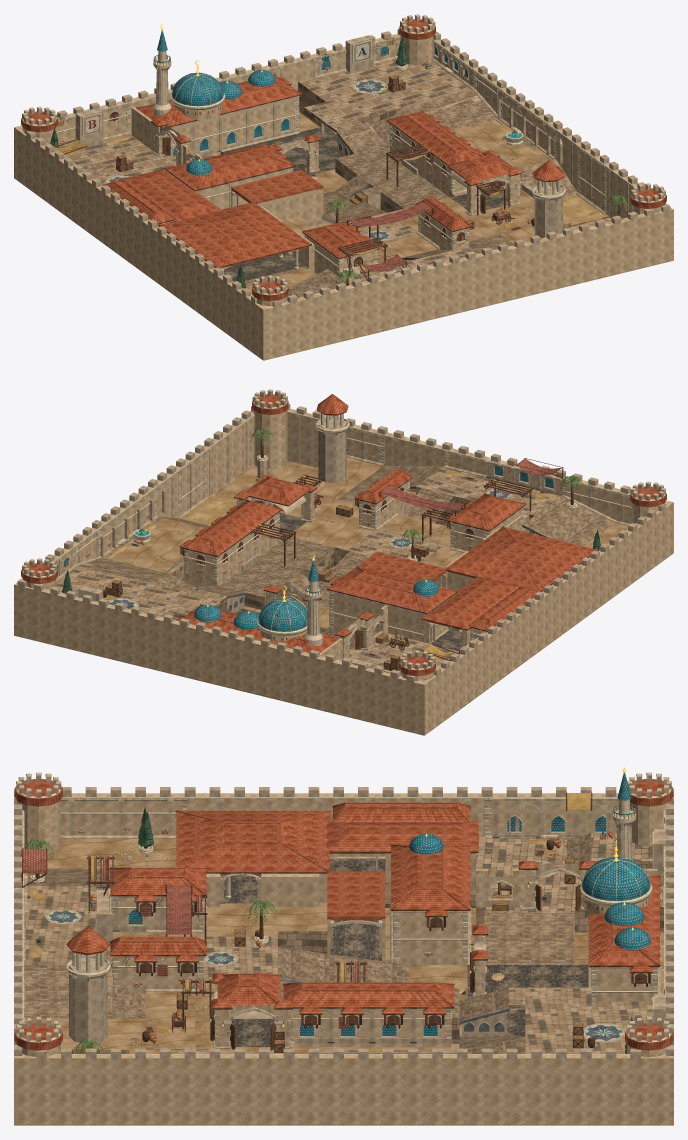
The model's file is kervan_original.glb.
The picture shows the model from 3 angles, top to bottom: view 1: azimuth 30°, elevation 25°; view 2: azimuth 150°, elevation 25°; view 3: azimuth 270°, elevation 25°; orthographic projection. The views are drawn at different scales.
Parts seen in each view (by area): view 1: DE_KERVAN; view 2: DE_KERVAN; view 3: DE_KERVAN.
Part boxes in pixels (bbox=[...]): DE_KERVAN: bbox=[14, 14, 673, 360]; DE_KERVAN: bbox=[14, 389, 673, 735]; DE_KERVAN: bbox=[14, 764, 673, 1125].
Size of the model in its own units: 76 by 24.04 by 80.
Materials: 29 (29 with a texture image).
